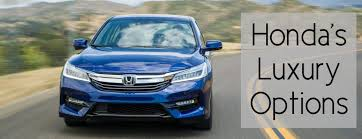Honda: (59, 11, 223, 129)
